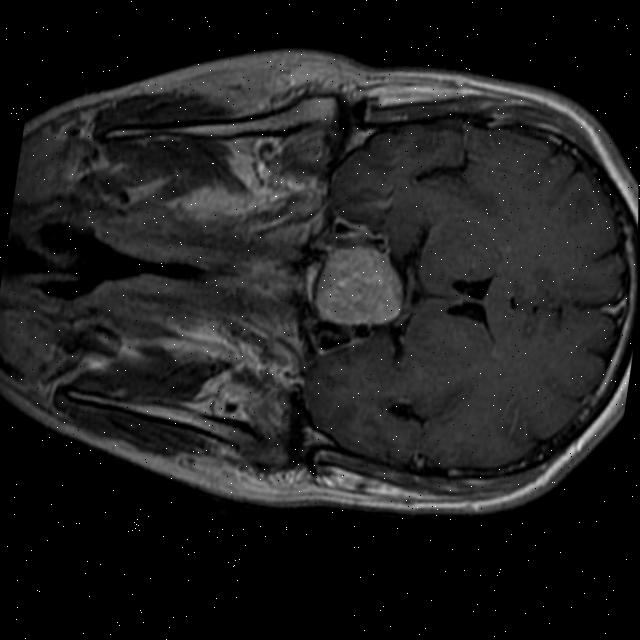Pituitary: (309, 239, 410, 334)
